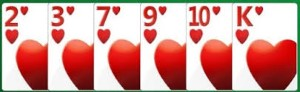KingOfHearts: (232, 2, 298, 91)
NineOfHearts: (140, 2, 187, 92)
TenOfHearts: (186, 2, 233, 92)
